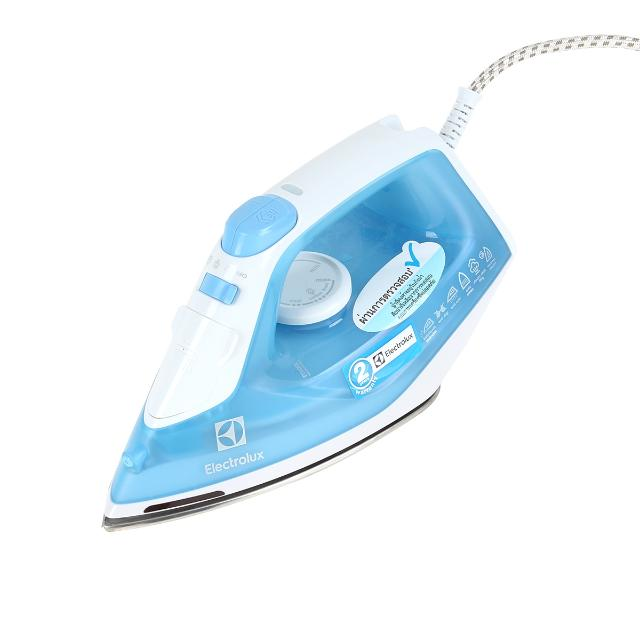Clothes-Iron: (91, 109, 526, 536)
